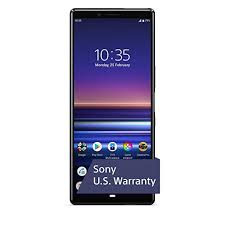sony: (68, 6, 157, 209)
